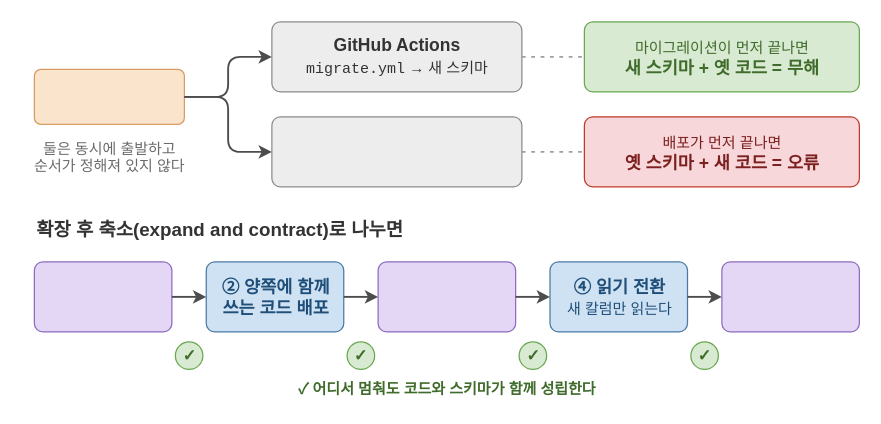
Some shapes in this 881 by 424 pixel diagram are drawn without their labels. The shapes that lost their labels are listed below. From the top down, each one's box as (x1, y1, x2, y2) in pixels, then its label:
(33, 68, 184, 124): git push
(271, 116, 522, 187): Vercel 빌드·배포 → 새 코드
(33, 261, 172, 332): ① 새 칼럼 추가 확장(expand)
(377, 261, 516, 332): ③ 데이터 복사 옛 칼럼 → 새 칼럼
(721, 261, 859, 332): ⑤ 옛 칼럼 제거 축소(contract)
